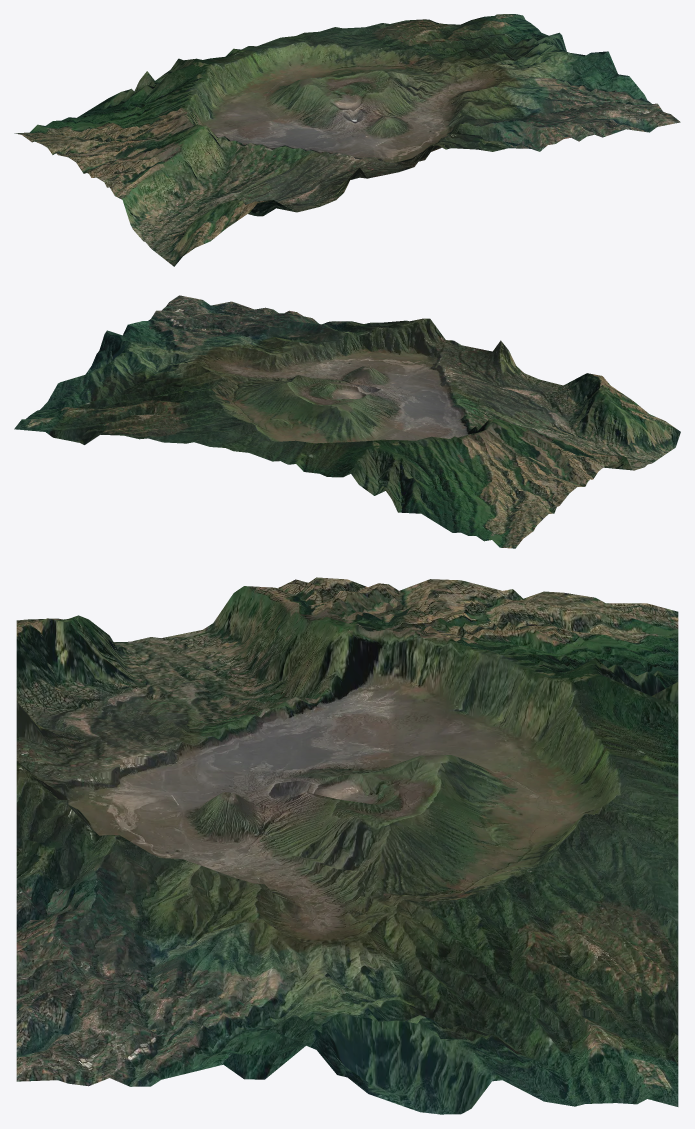
The model's file is mount-bromo.glb.
The picture shows the model from 3 angles, top to bottom: view 1: azimuth 30°, elevation 25°; view 2: azimuth 150°, elevation 25°; view 3: azimuth 270°, elevation 25°; orthographic projection. The views are drawn at different scales.
Visible parts, largest first — view 1: EXPORT_GOOGLE_SAT_WM; view 2: EXPORT_GOOGLE_SAT_WM; view 3: EXPORT_GOOGLE_SAT_WM.
Boxes of the visible parts, x1,y1,x2,y2 form: EXPORT_GOOGLE_SAT_WM: (14,14,680,266); EXPORT_GOOGLE_SAT_WM: (14,295,680,548); EXPORT_GOOGLE_SAT_WM: (16,577,678,1114).
Bounding box in the file's own units: 1712 × 209 × 978.
1 material, 1 textured.
